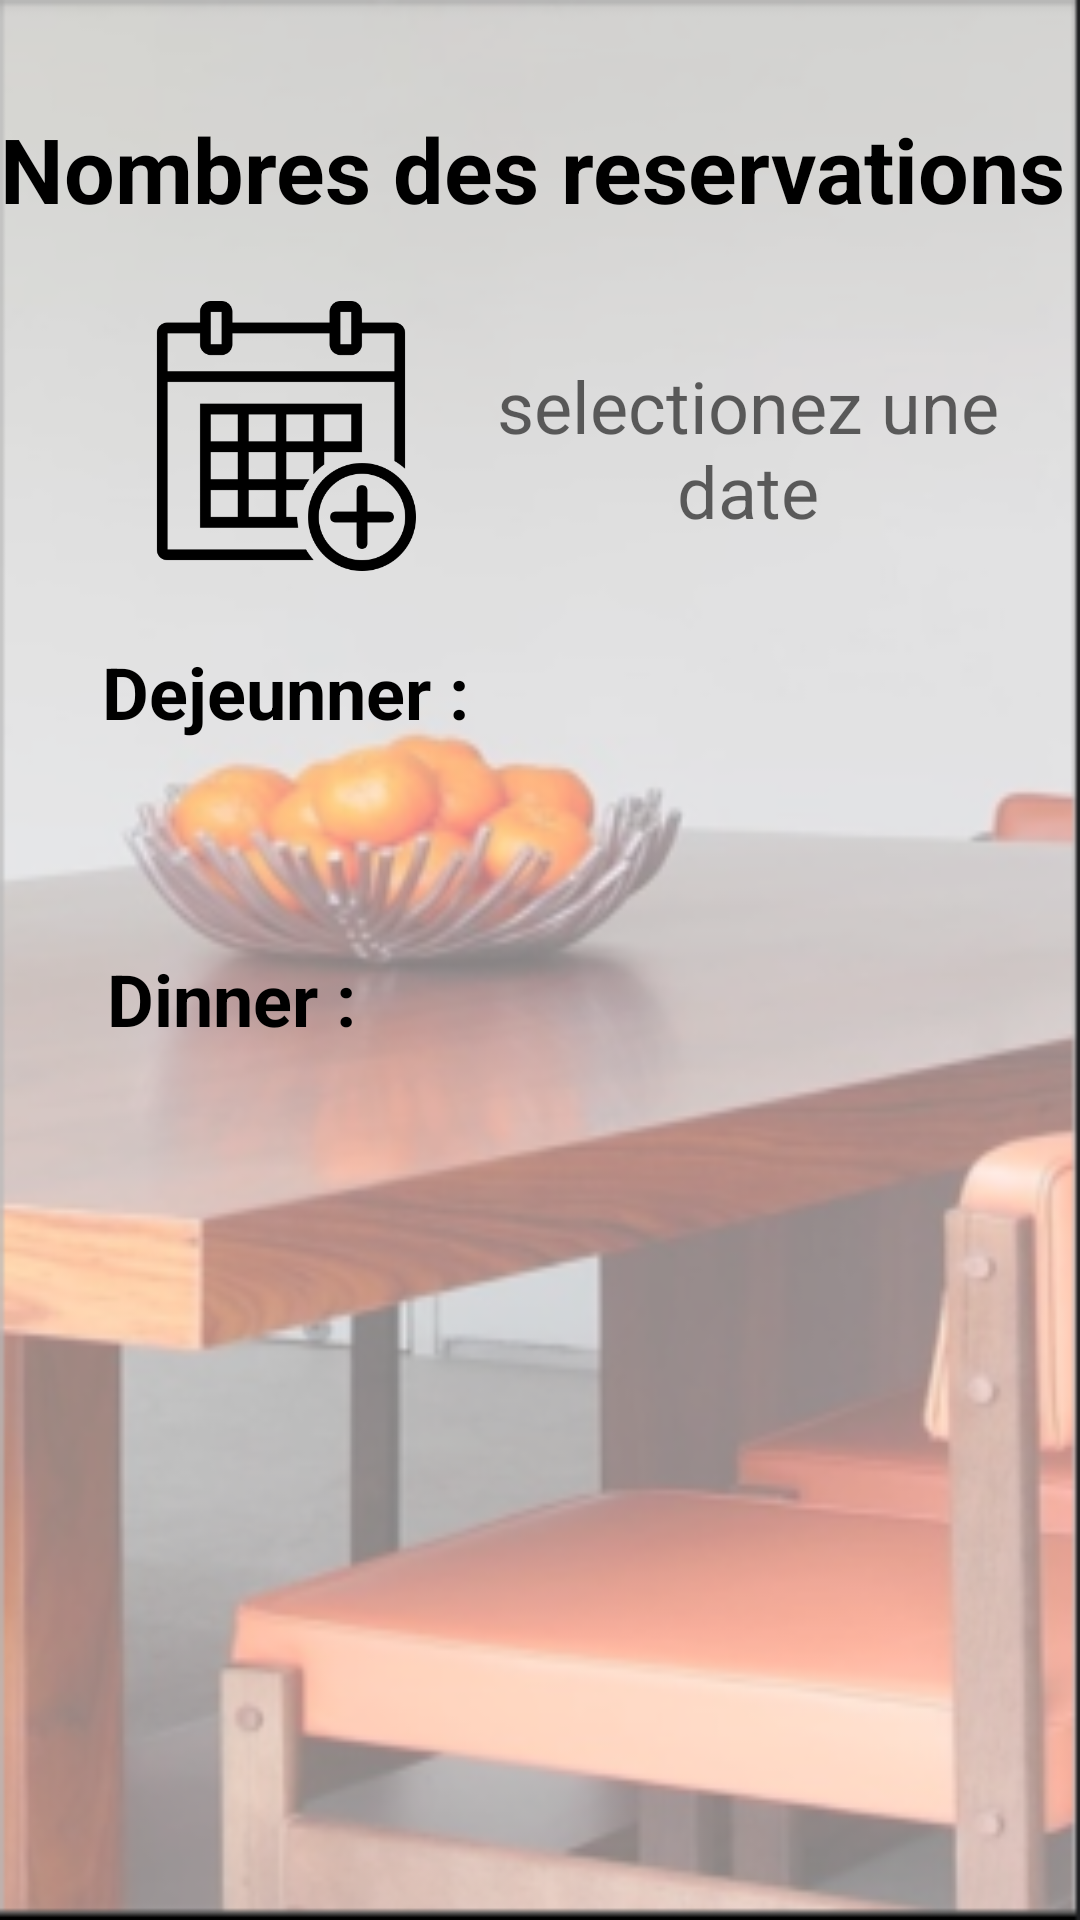

Named icons in this screenshot (1080x1920) and their centers, point (x, y):
calendarplus: point (286, 436)
